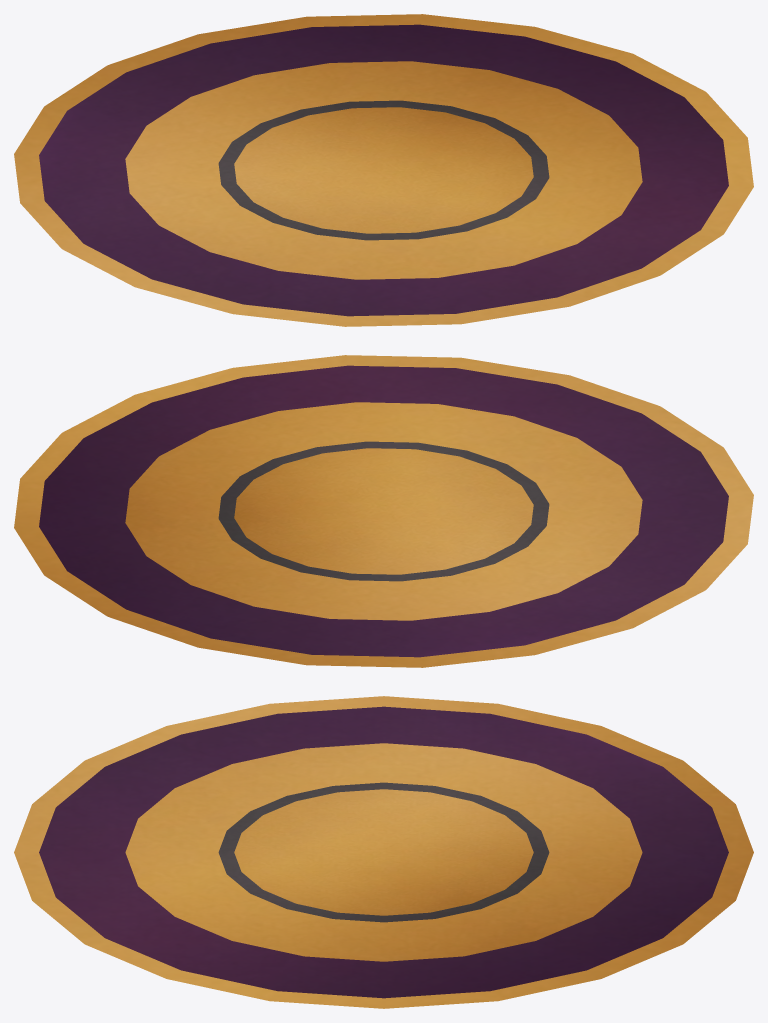
File: SM_cermeon_rug_00.fbx
3 renders of one model, top to bottom at view 1: azimuth 30°, elevation 25°; view 2: azimuth 150°, elevation 25°; view 3: azimuth 270°, elevation 25°, orthographic.
Parts seen in each view (by area): view 1: SM_cermeon_rug_00; view 2: SM_cermeon_rug_00; view 3: SM_cermeon_rug_00.
Boxes of the visible parts, box(x1,y1,x2,y2) form: SM_cermeon_rug_00: box(14, 14, 753, 326); SM_cermeon_rug_00: box(14, 355, 753, 667); SM_cermeon_rug_00: box(14, 696, 753, 1008).
Bounding box in the file's own units: 3.99 × 0 × 3.99.
